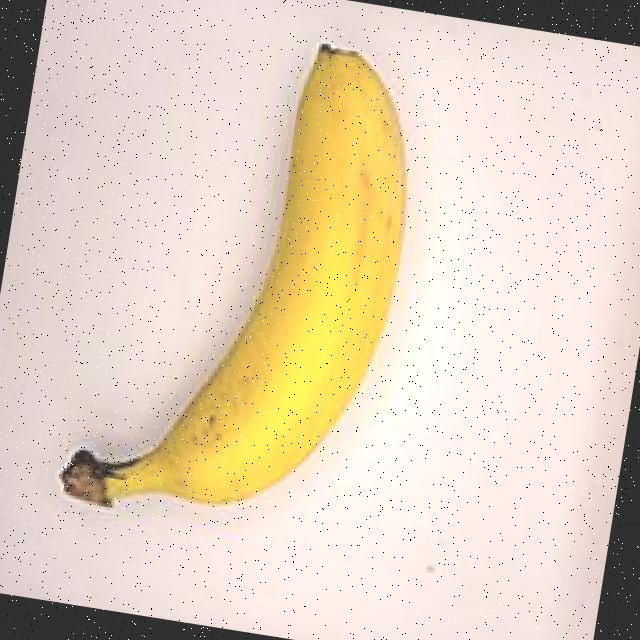Ripe: (29, 0, 496, 556)
